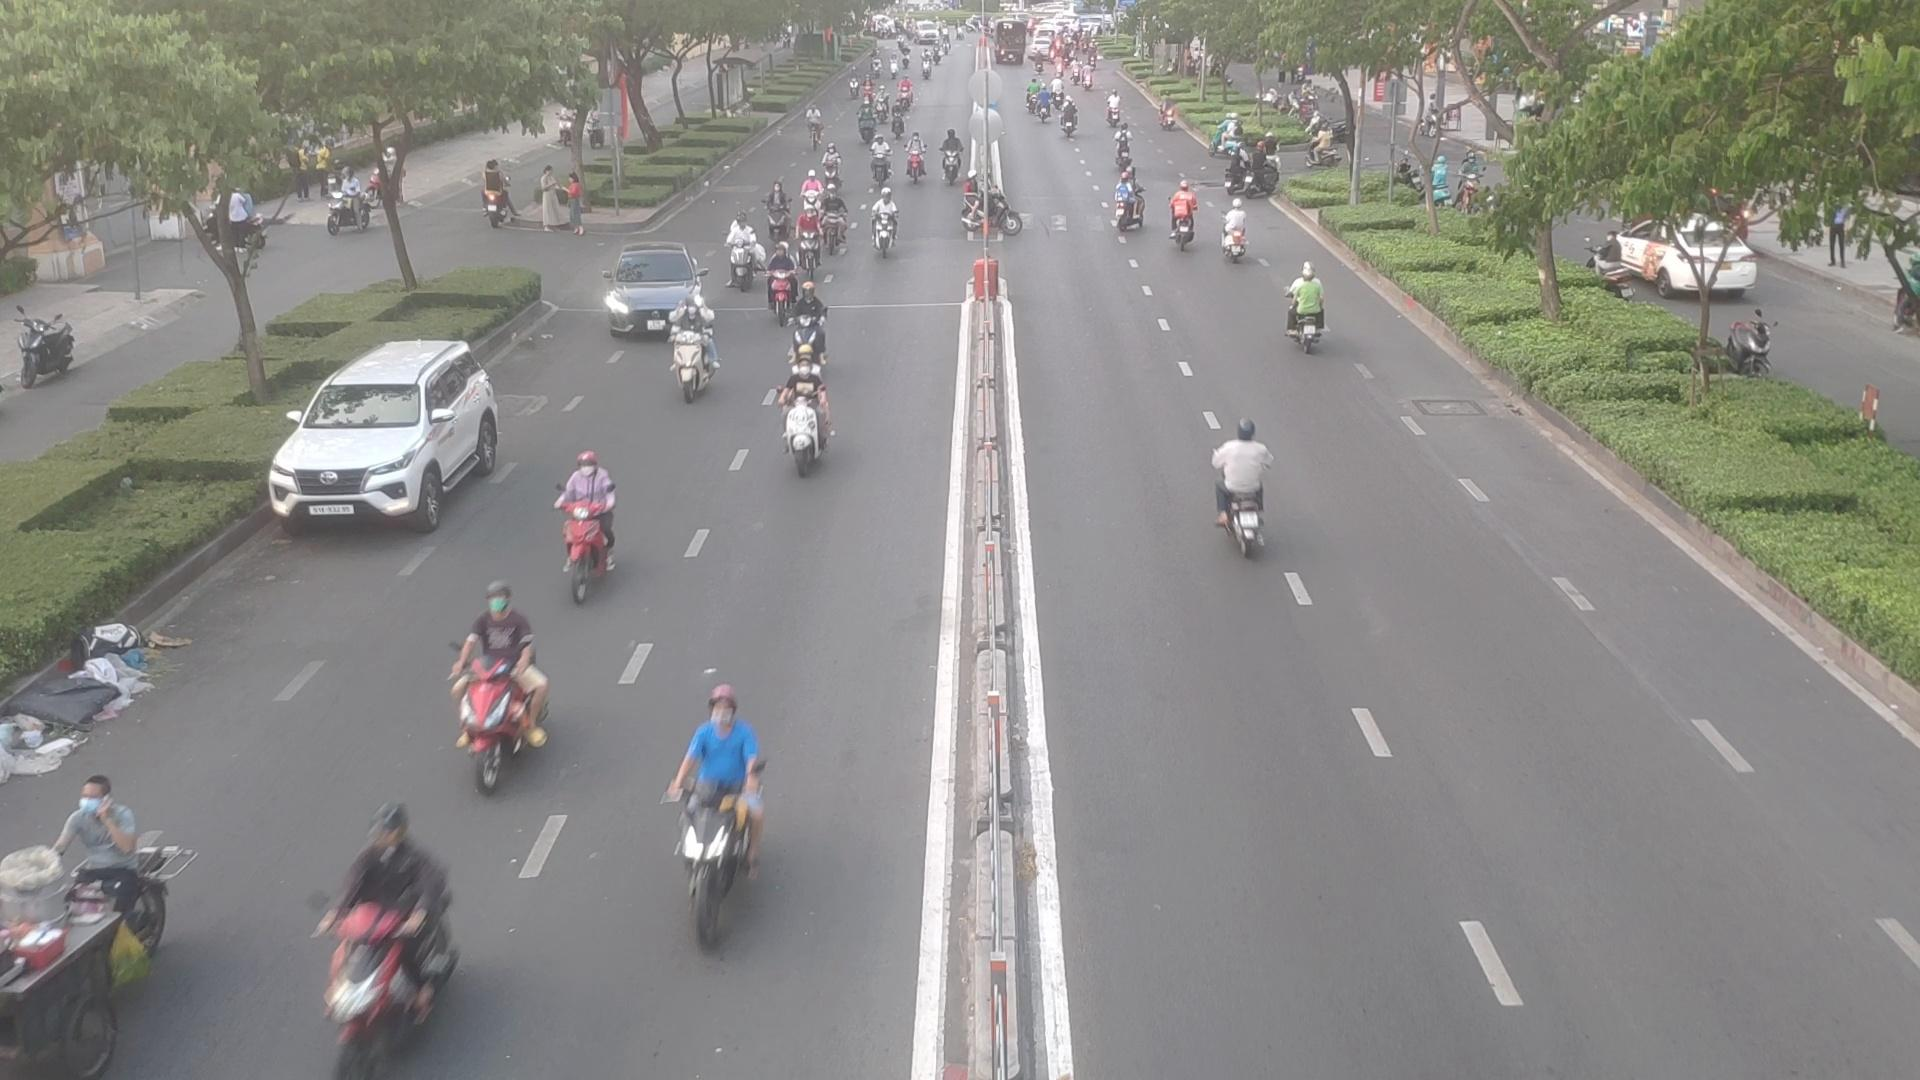car: (270, 342, 517, 531), (596, 251, 713, 342)
motorbike: (320, 816, 465, 1073), (665, 694, 766, 945), (439, 601, 553, 786), (44, 785, 149, 924), (541, 451, 621, 589), (1208, 421, 1282, 558), (774, 360, 847, 477), (1278, 268, 1333, 349), (667, 327, 728, 401), (961, 175, 1017, 236), (790, 282, 829, 363), (761, 247, 803, 316), (866, 198, 903, 260), (1167, 189, 1200, 252), (717, 233, 756, 287), (1113, 178, 1150, 233), (796, 206, 823, 280), (760, 186, 793, 241), (818, 202, 852, 255), (1224, 199, 1249, 266), (939, 133, 969, 183), (907, 138, 934, 185), (819, 145, 843, 195), (868, 132, 891, 174), (802, 170, 822, 220)
